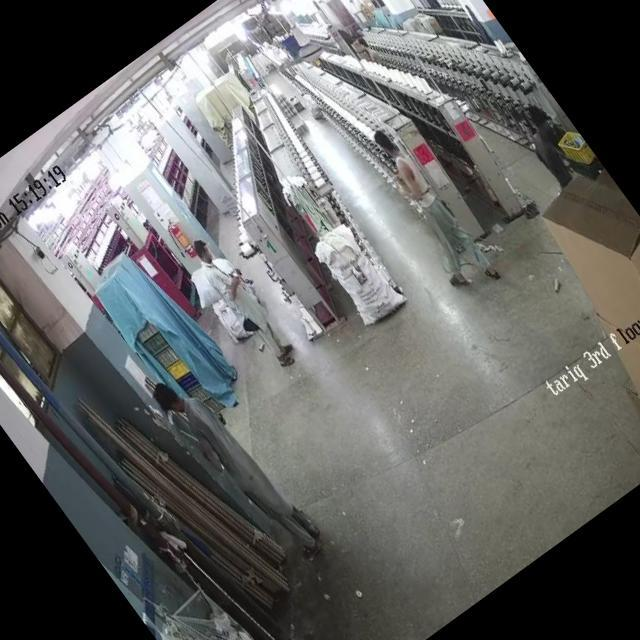person: (162, 364, 328, 570), (364, 118, 494, 282), (190, 234, 288, 356), (514, 104, 580, 176)
